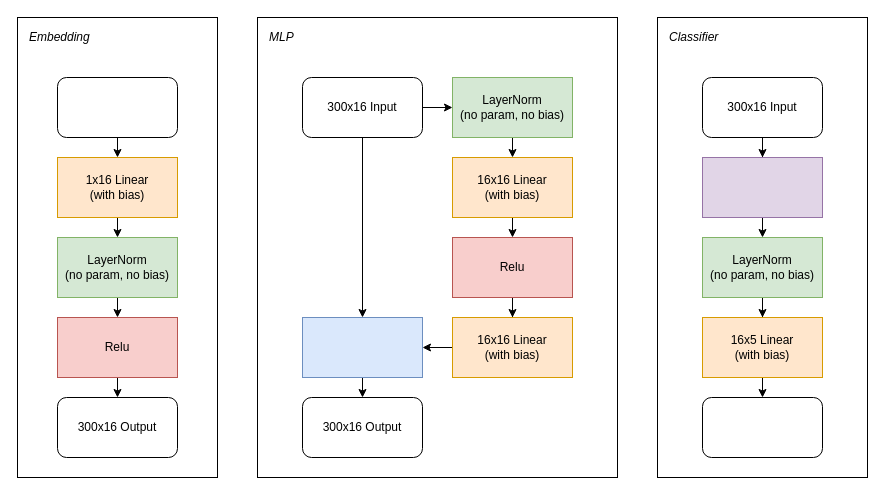
The diagram is 885 pixels wide and 495 high, and some of its shapes have lost their labels. The shapes that lost their labels are listed below. From the top down, each one's centre as x and y in pixels, then its label:
At (x=117, y=107): "300x1 Input".
At (x=762, y=187): "Reduce Mean (Average along -1 axis)".
At (x=362, y=347): "Add".
At (x=762, y=427): "1x5 Output".
